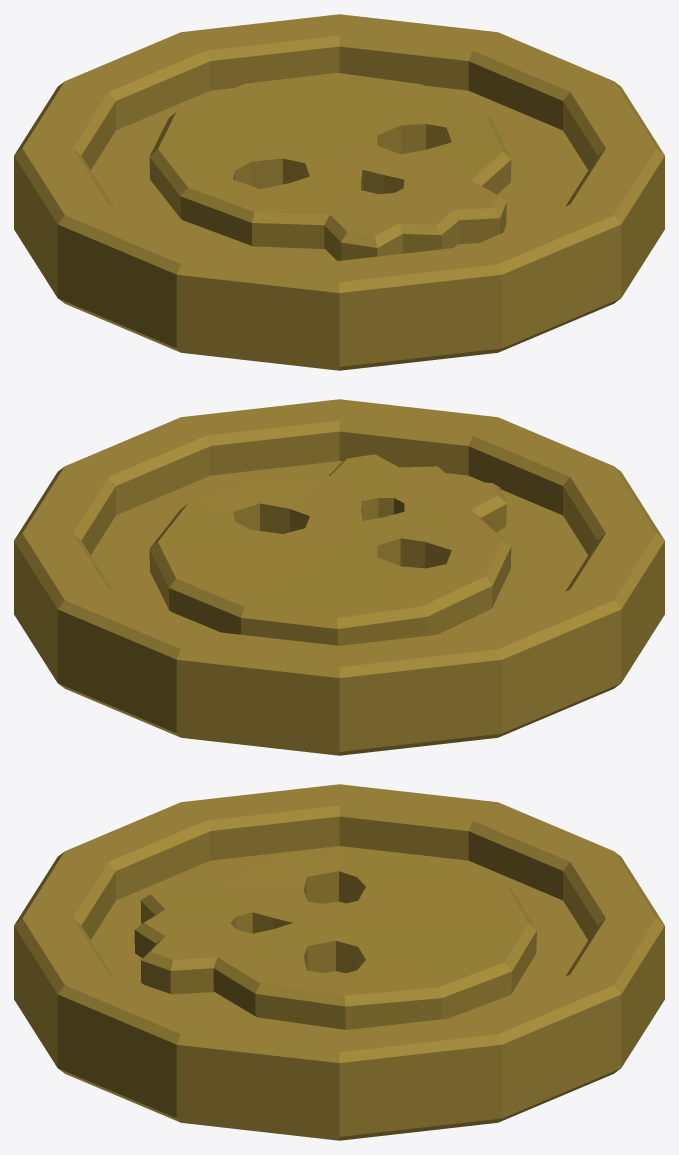
Rendered from coin.fbx.
3 views of the same model, one above another, from view 1: azimuth 30°, elevation 25°; view 2: azimuth 150°, elevation 25°; view 3: azimuth 270°, elevation 25° (orthographic).
Visible parts, largest first — view 1: coin; view 2: coin; view 3: coin.
Part boxes in pixels (x1,y1,x2,y2): coin: [14, 14, 664, 370]; coin: [14, 399, 664, 755]; coin: [14, 784, 664, 1140].
Size of the model in its own units: 200 by 30.01 by 200.
